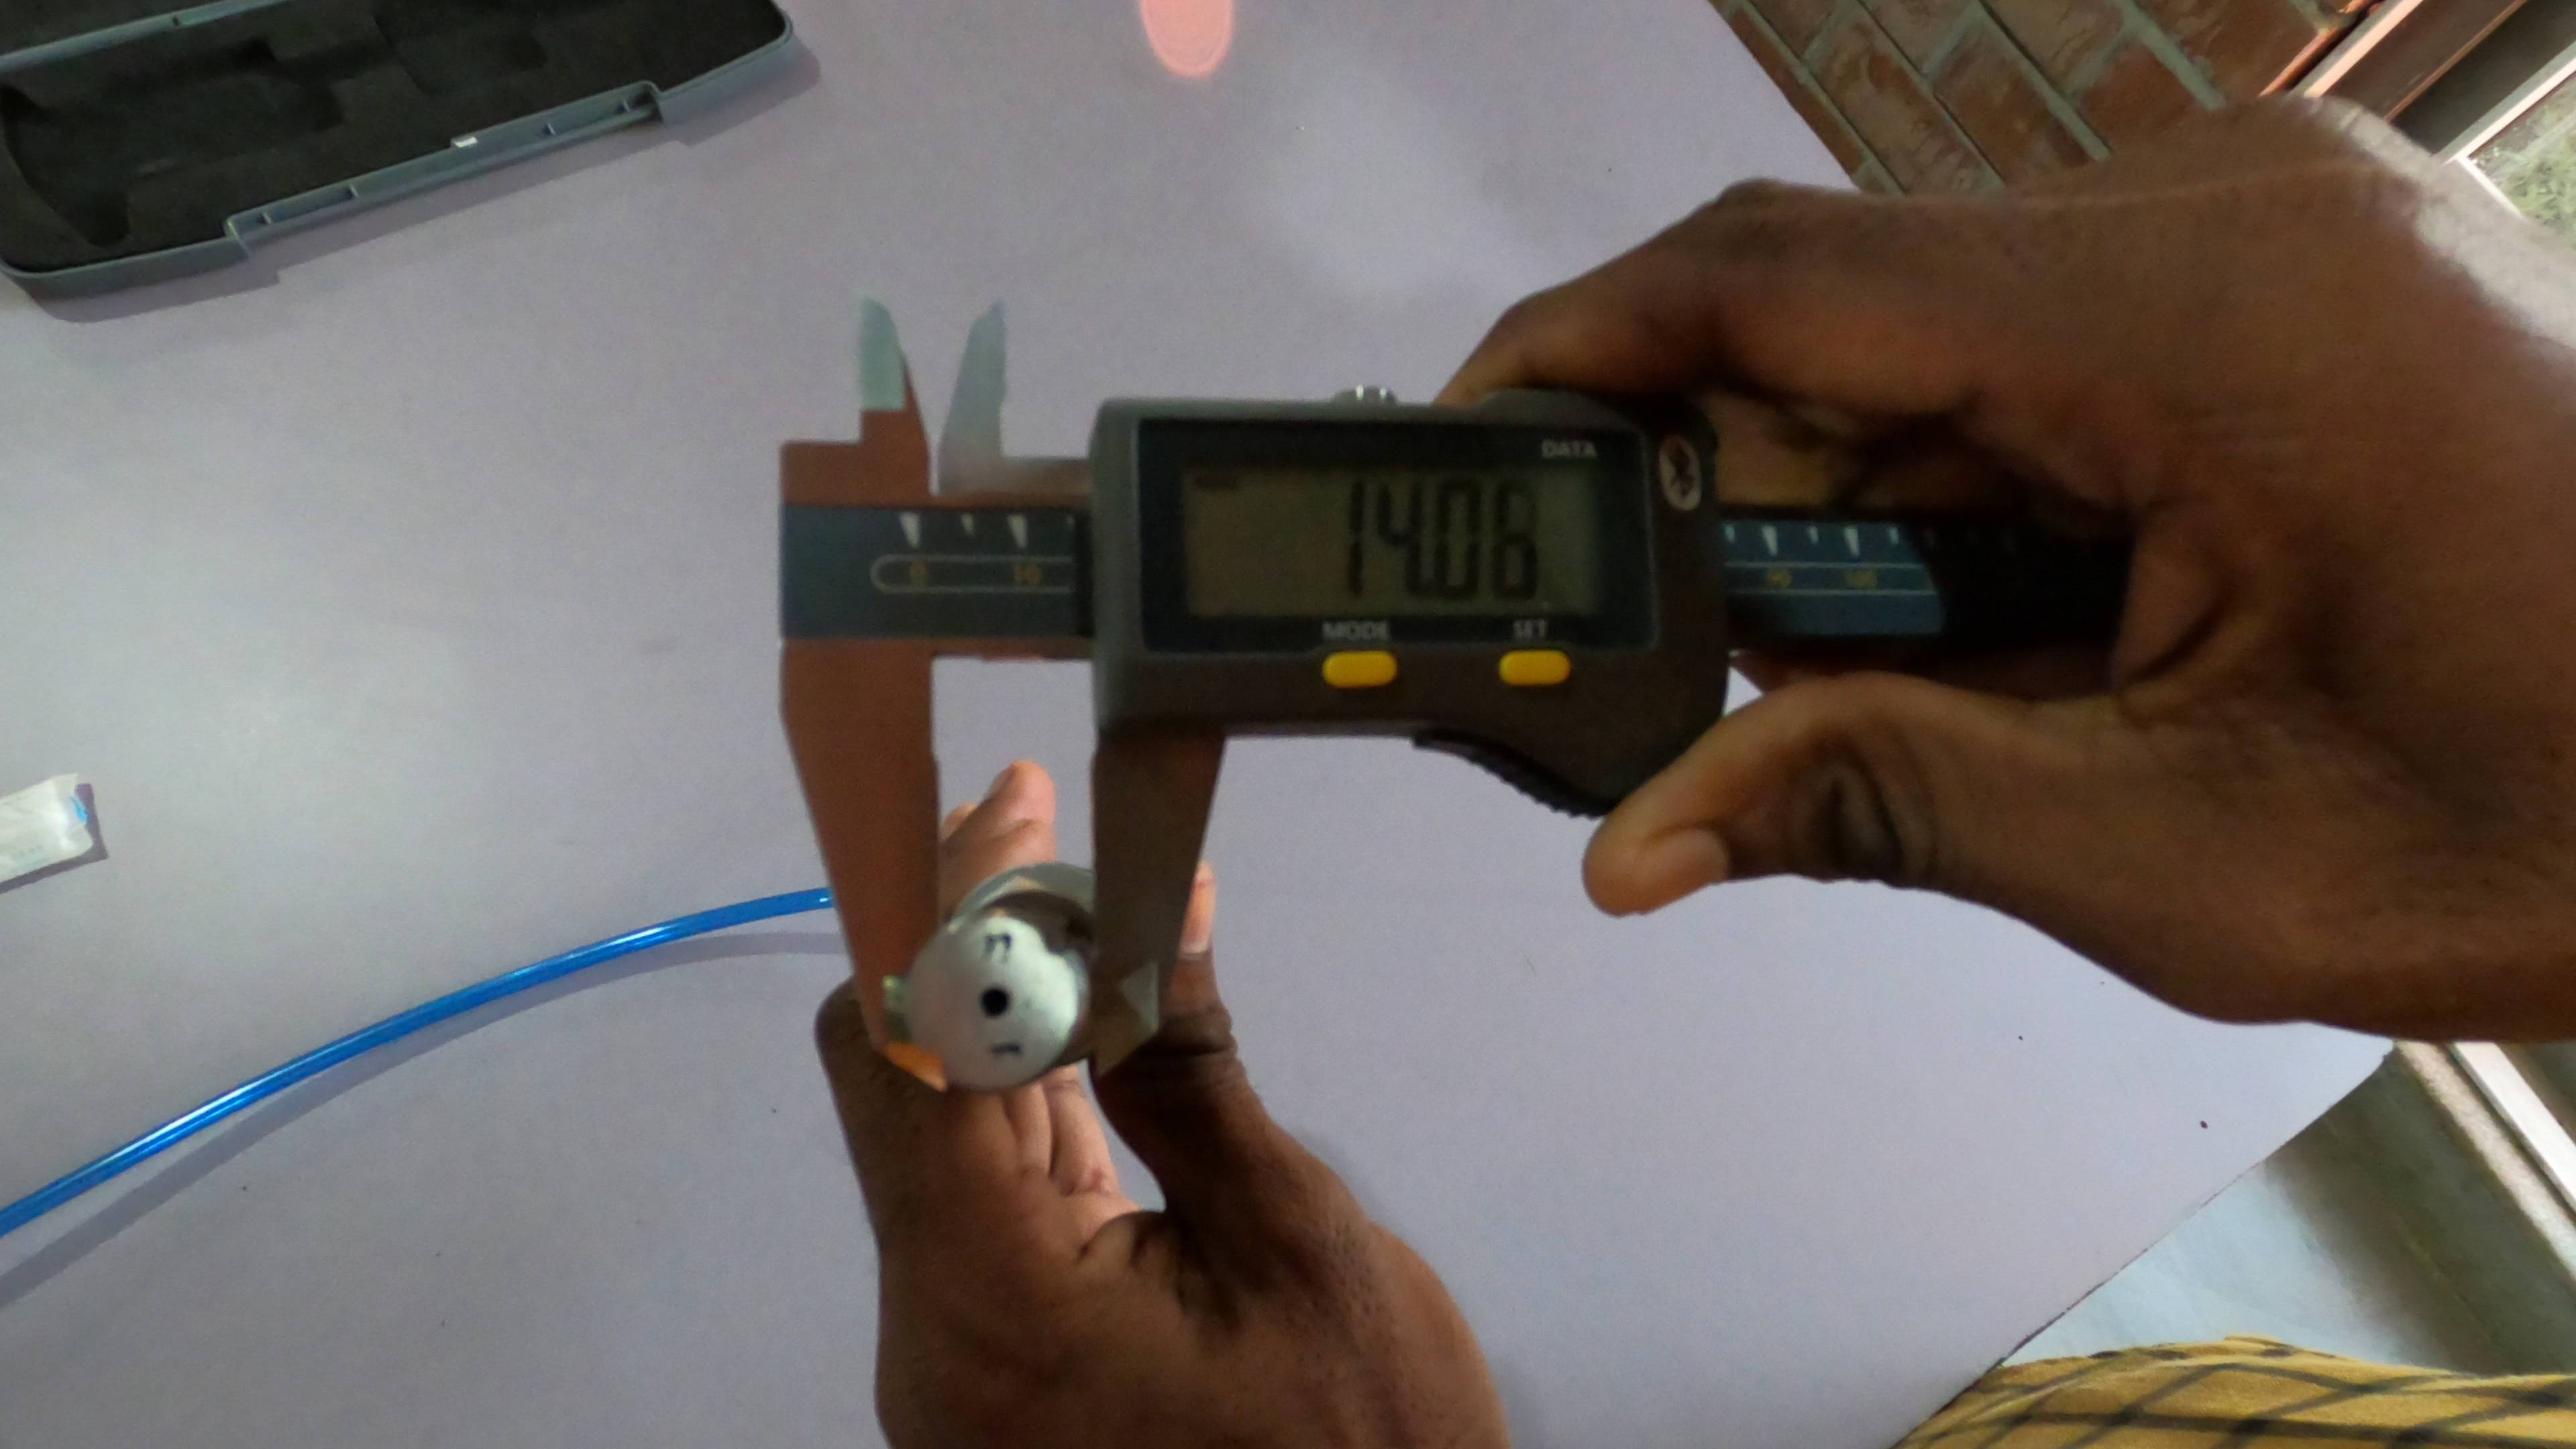vernier_caliper: (775, 288, 2112, 1083)
